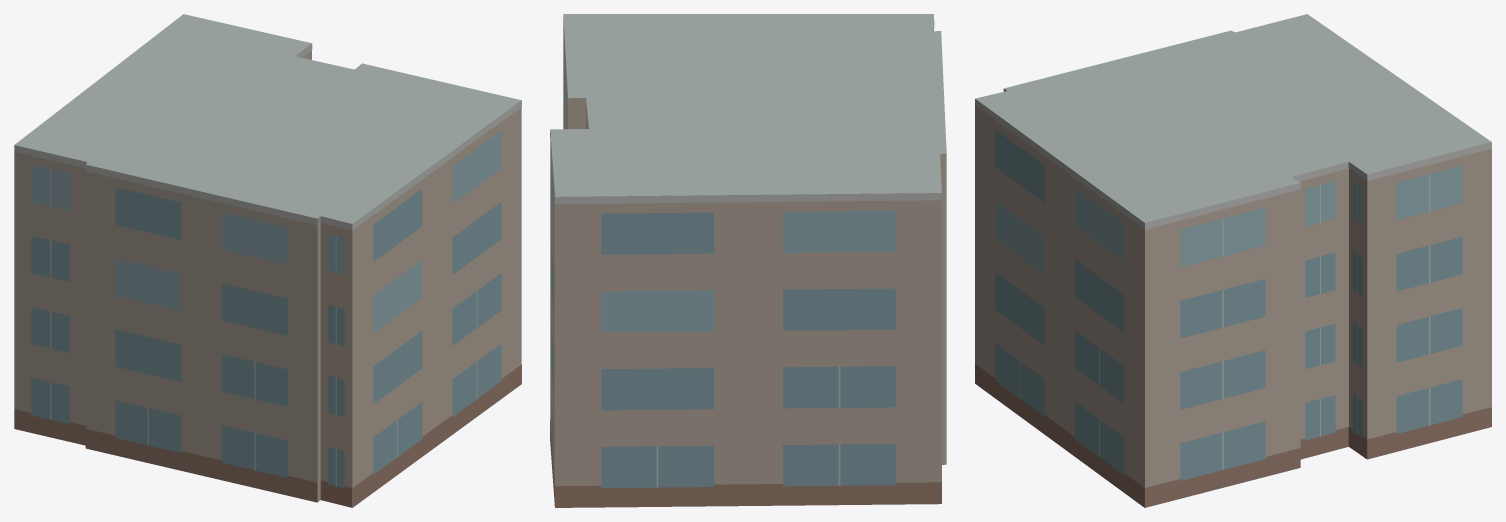
Rendered from survey-upis-32665933.glb.
The picture shows the model from 3 angles, left to right: view 1: azimuth 30°, elevation 25°; view 2: azimuth 150°, elevation 25°; view 3: azimuth 270°, elevation 25°; orthographic projection. The views are drawn at different scales.
Parts seen in each view (by area): view 1: survey-upis-32665933.tmp; view 2: survey-upis-32665933.tmp; view 3: survey-upis-32665933.tmp.
Part boxes in pixels (bbox=[...]): survey-upis-32665933.tmp: bbox=[14, 14, 521, 507]; survey-upis-32665933.tmp: bbox=[550, 14, 946, 507]; survey-upis-32665933.tmp: bbox=[975, 14, 1491, 507].
Size of the model in its own units: 16.36 by 10.4 by 17.1.
